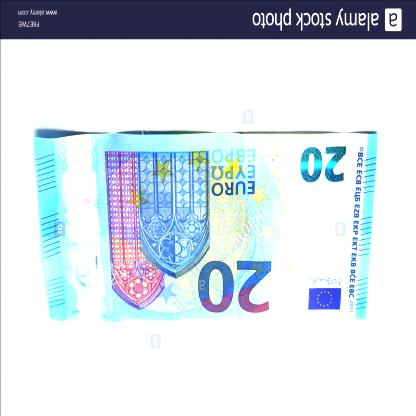euro_banknote: (34, 133, 378, 323)
